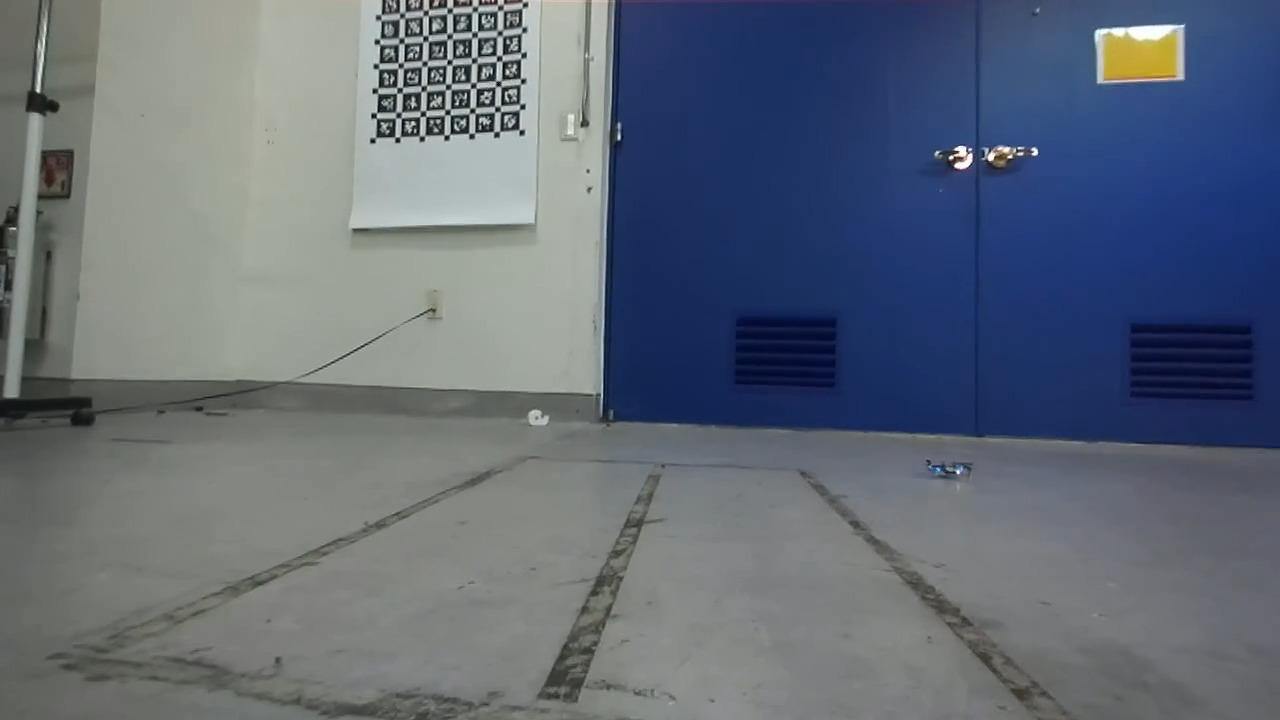crazyflie: (923, 453, 975, 484)
